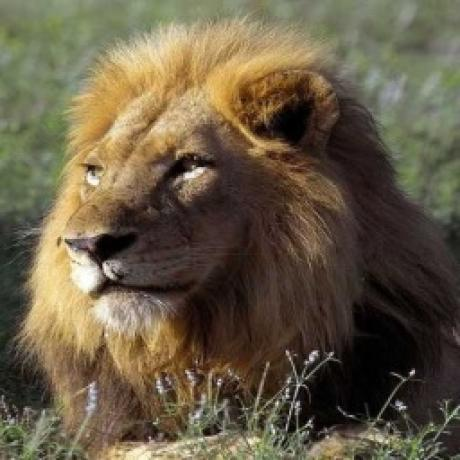Lion: (15, 17, 460, 438)
